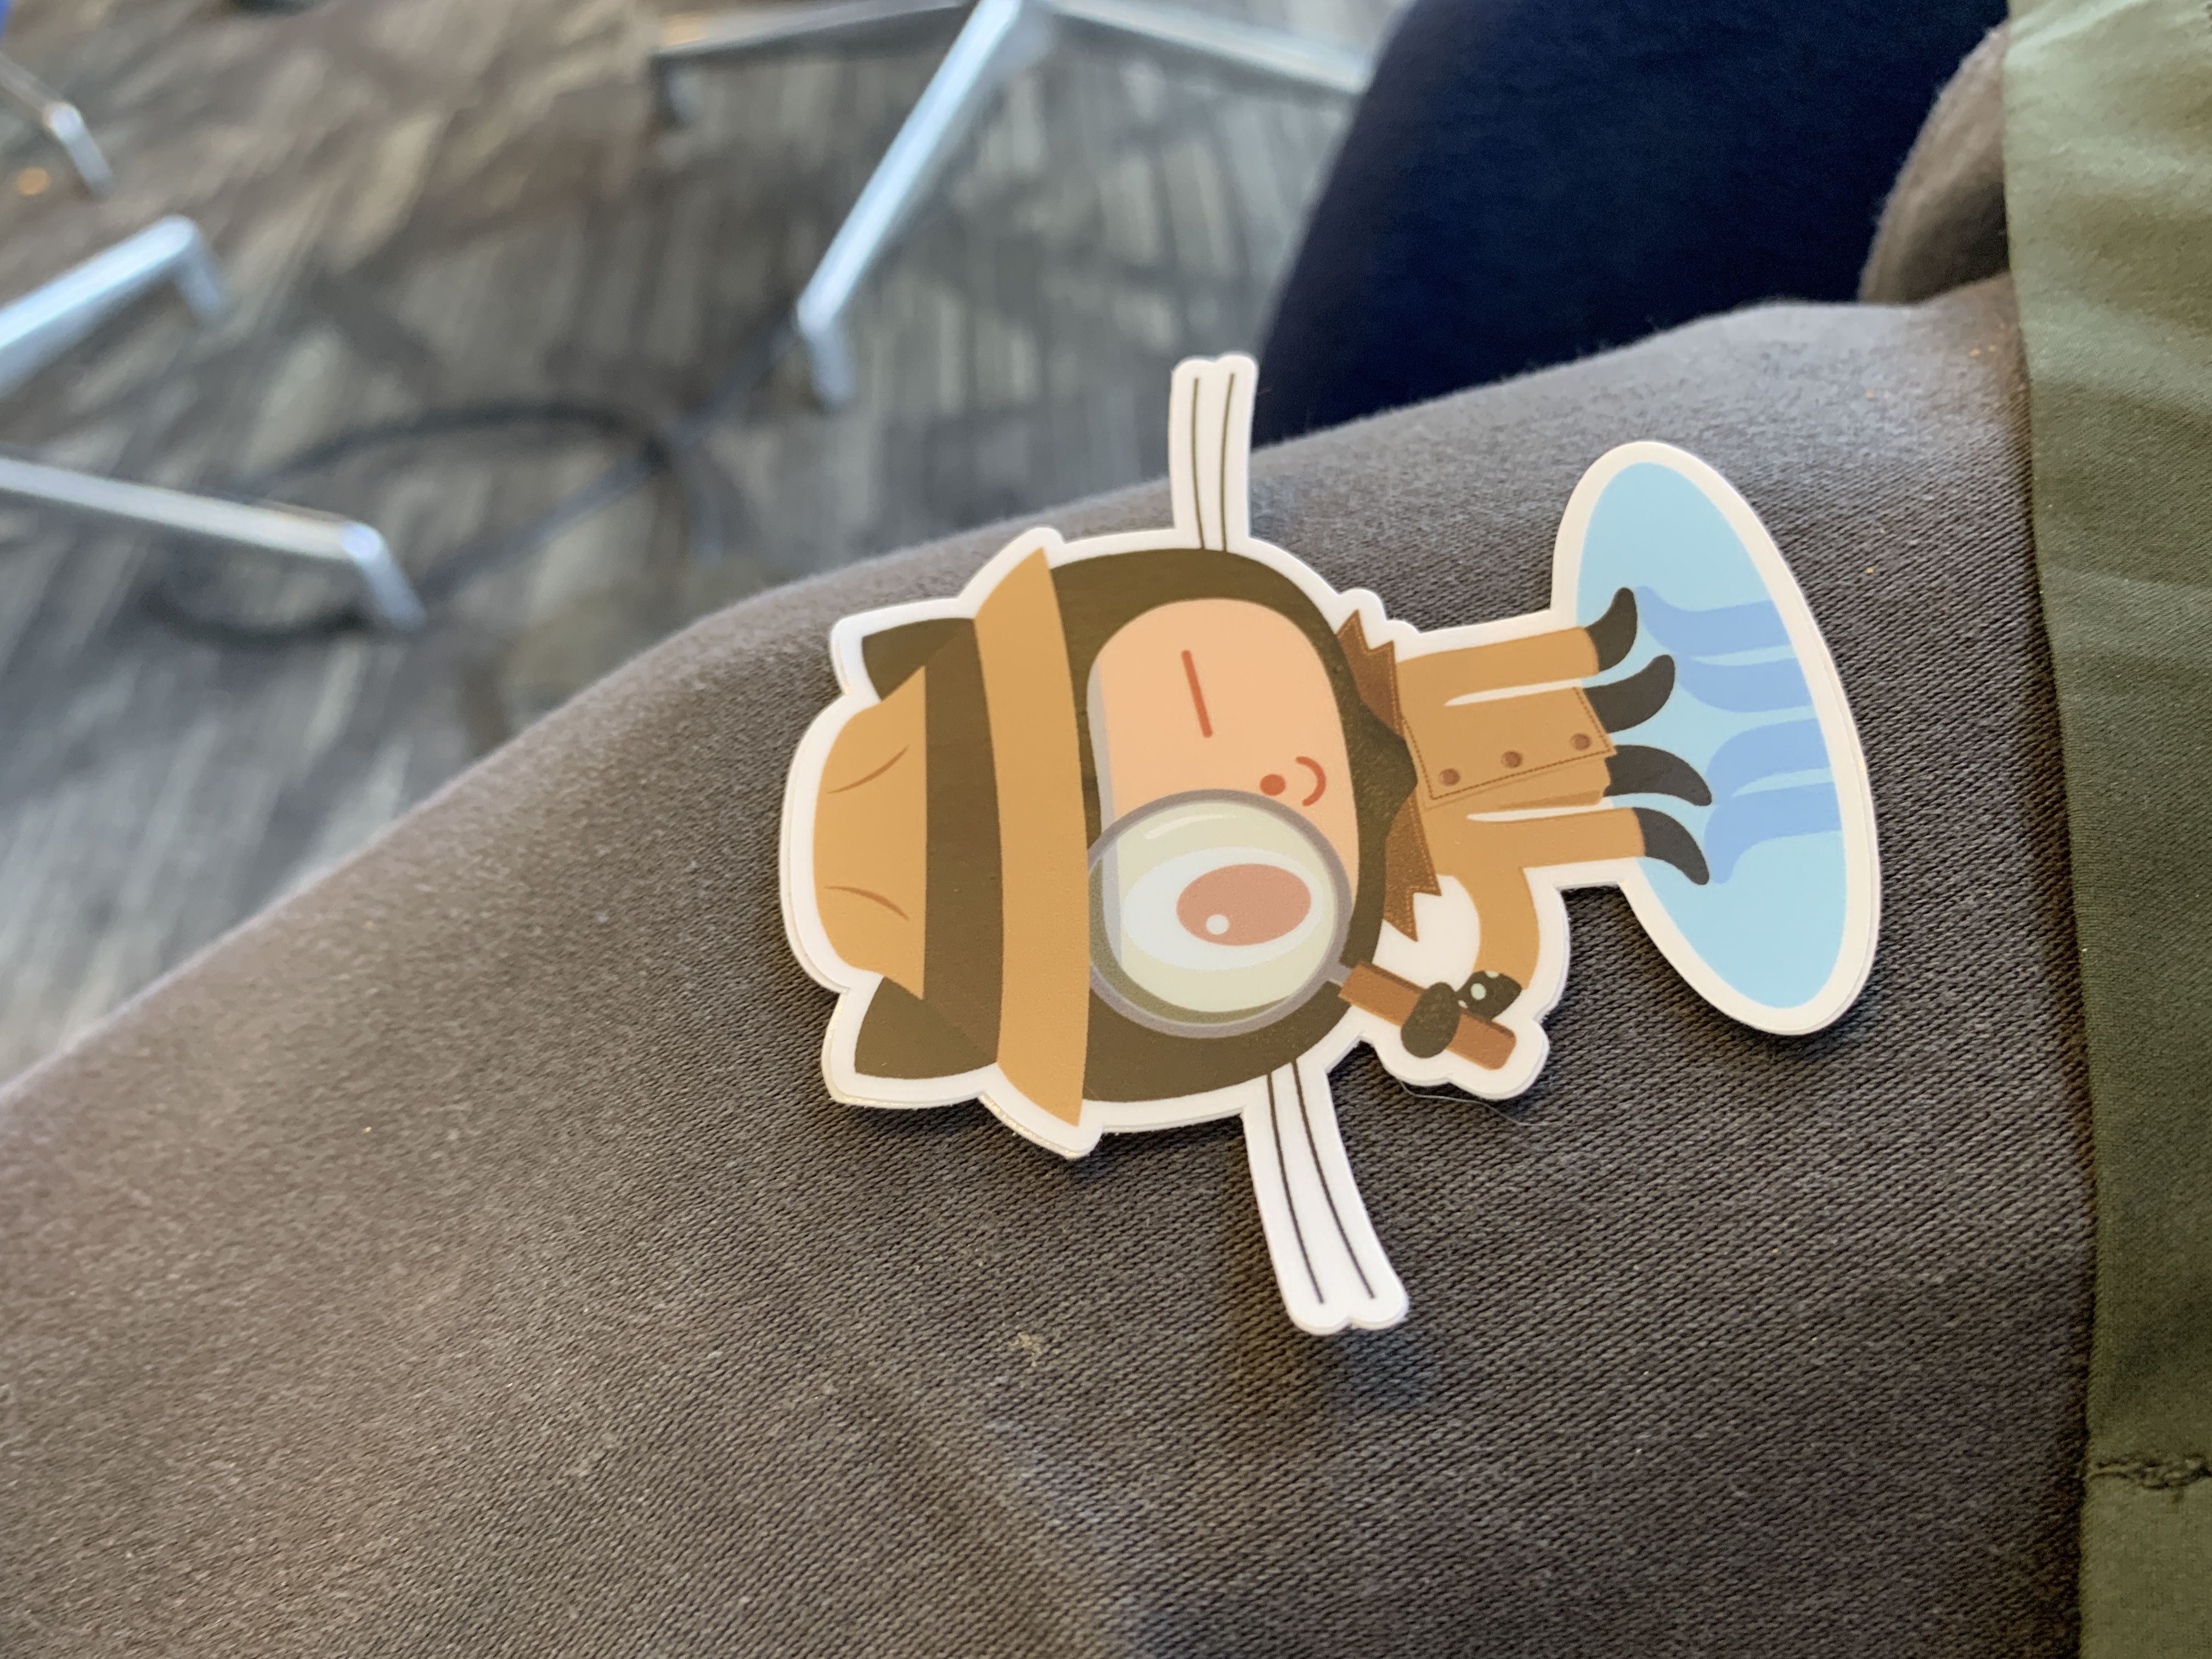inspectocat: (808, 474, 1773, 1169)
